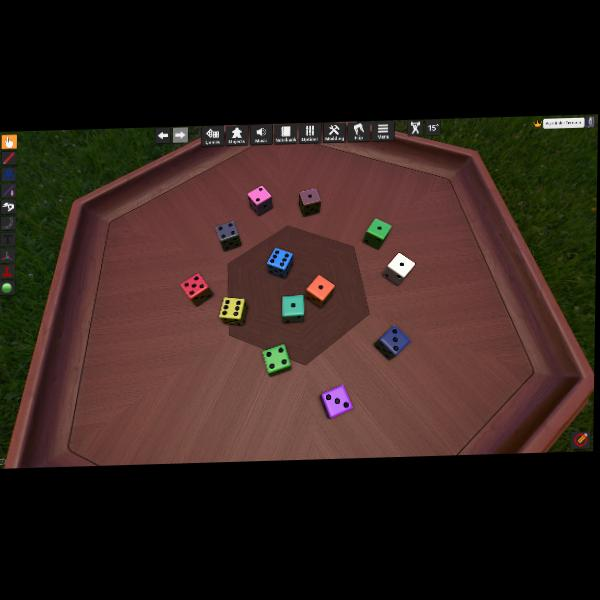d6: (374, 324, 409, 360), (382, 252, 414, 286), (180, 272, 211, 306), (319, 384, 349, 418), (304, 274, 333, 307), (262, 343, 291, 376), (363, 216, 390, 249), (218, 296, 247, 326), (266, 247, 294, 278), (246, 184, 272, 217), (215, 221, 242, 252), (300, 187, 322, 217), (281, 294, 304, 322)
